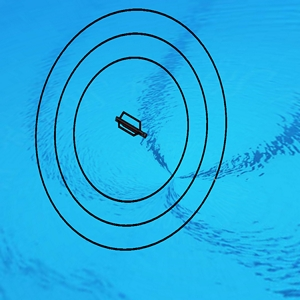circle: (34, 3, 233, 258)
submarine: (115, 110, 148, 138)
